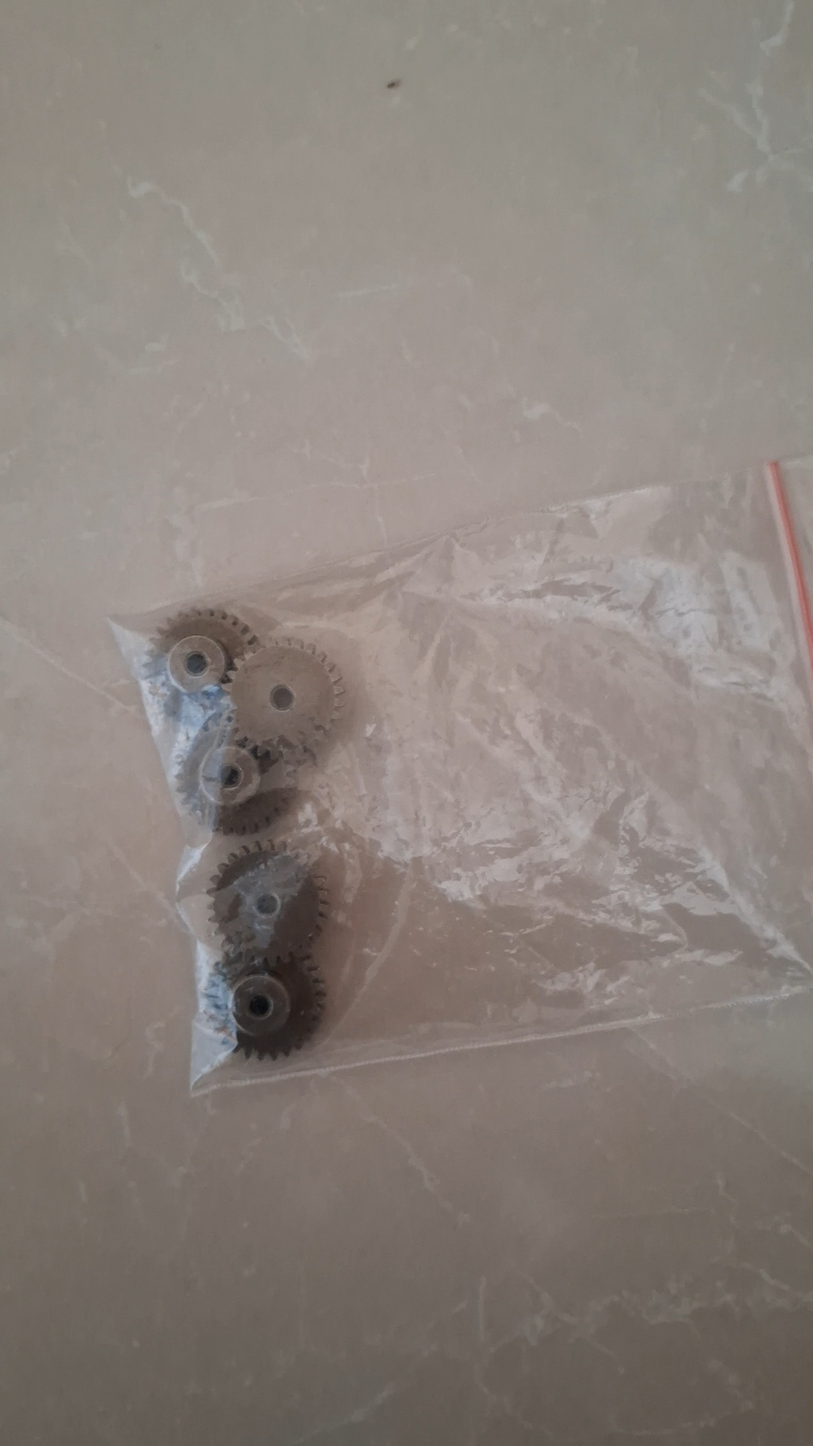spur gear: (176, 711, 292, 834), (208, 843, 327, 957), (224, 638, 344, 749), (206, 951, 325, 1059), (154, 608, 259, 693)
